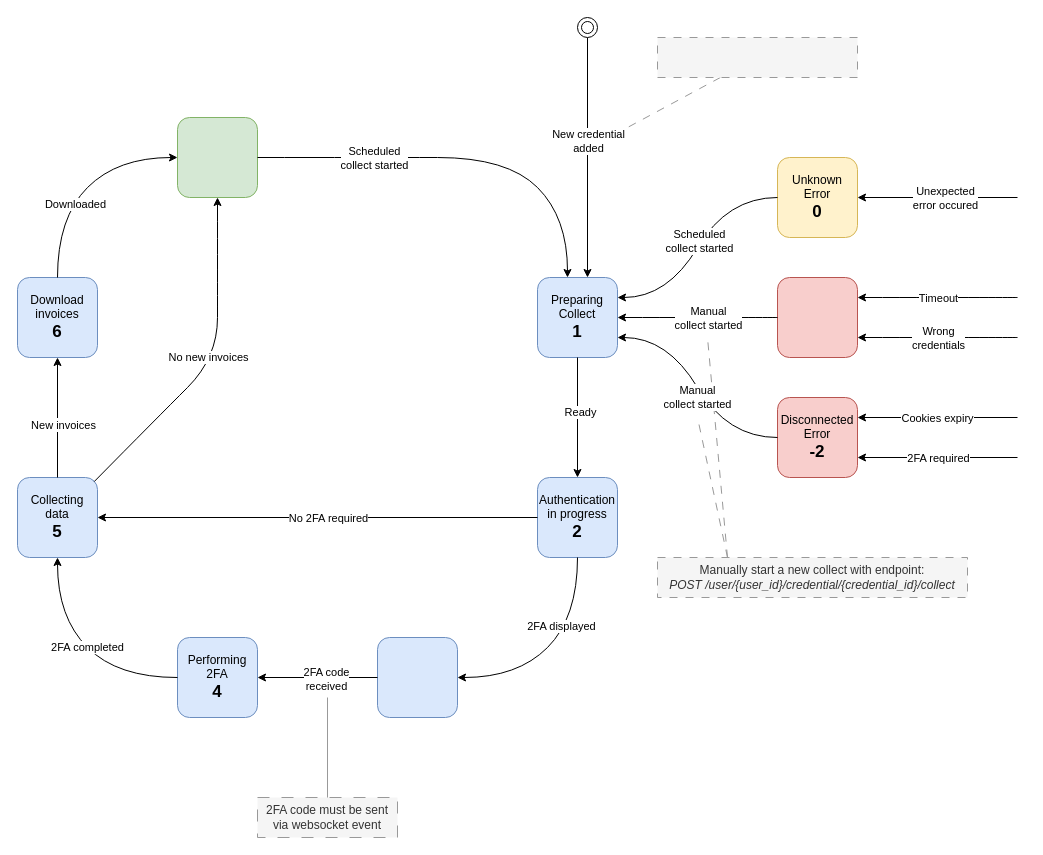
Image size: 1043x855. Some labels were removed from this diagram. Here are the shapes that lost their labels. From the top down, the centre of each, then its label:
At (757,57): "Credential added with endpoint: POST /user/{user_id}/credential".
At (217,157): "Done 7".
At (817,317): "Authentication Error -1".
At (417,677): "2FA required 3".
